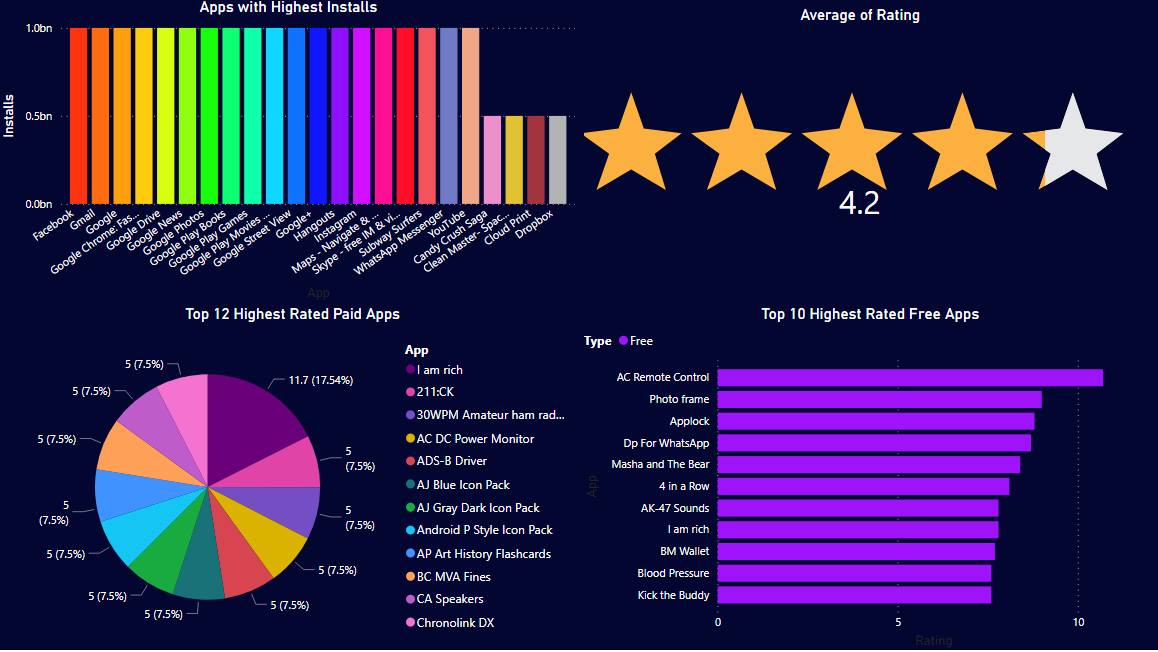

The page's visual inventory and layout, read from the dashboard file:
{"tool":"powerbi","page":{"name":"Page 2","canvas":[1280,720],"ordinal":1},"visuals":[{"type":"columnChart","title":"Apps with Highest Installs","fields":{"Category":["apps.App"],"Y":["Sum(apps.Installs)"]},"box":[0,0,640.7,338.2],"z":0},{"type":"pieChart","title":"Top 5 Highest Rated Paid Apps","fields":{"Category":["apps.App"],"Y":["Sum(apps.Rating)"],"Series":["apps.Type"]},"box":[9.6,338.2,631.1,382.2],"z":1000},{"type":"PBI_CV_9053509D_D461_463A_B485_CE9F6AB0F13D","fields":{"value":["Avg(apps.Rating)"]},"box":[640.7,9.6,617.3,328.6],"z":2000},{"type":"clusteredBarChart","title":"Top 5 Highest Rated Free Apps","fields":{"Category":["apps.App"],"Y":["Sum(apps.Rating)"],"Series":["apps.Type"]},"box":[640.7,338.2,639.3,382.2],"z":2001}]}

Visuals, with their boxes in screenshot pixels (x1, y1, x2, y2), scaled from the page's 1280x720 canvas onto the 1158x652 screenshot:
"Apps with Highest Installs" columnChart: [0,0,580,306]
"Top 5 Highest Rated Paid Apps" pieChart: [9,306,580,651]
PBI_CV_9053509D_D461_463A_B485_CE9F6AB0F13D - Avg(apps.Rating): [580,9,1138,306]
"Top 5 Highest Rated Free Apps" clusteredBarChart: [580,306,1157,651]
